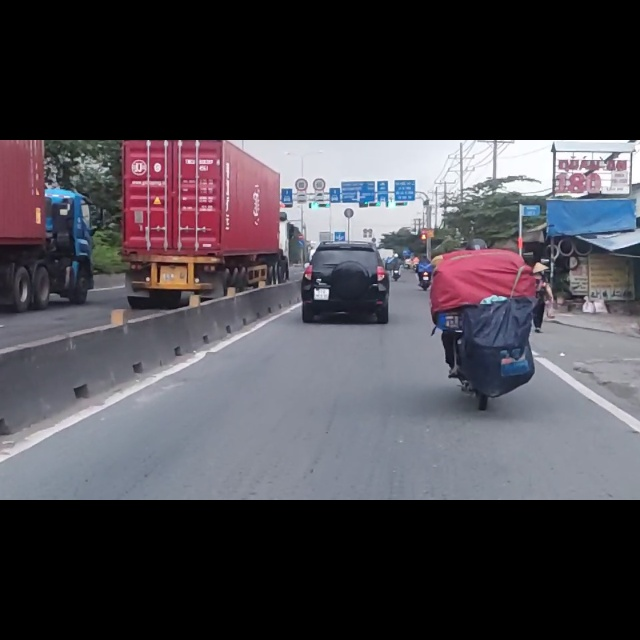bien_nguy_hiem: (312, 66, 327, 92), (295, 66, 309, 92), (298, 168, 303, 177), (299, 178, 304, 187)
